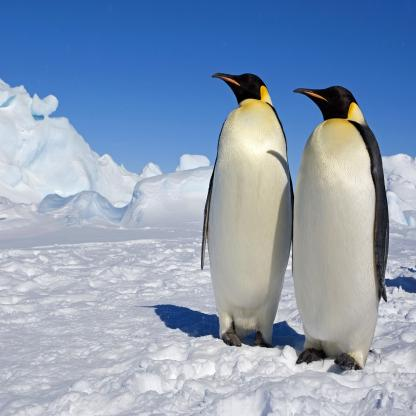Penguin: (286, 72, 398, 388), (194, 61, 294, 358)
